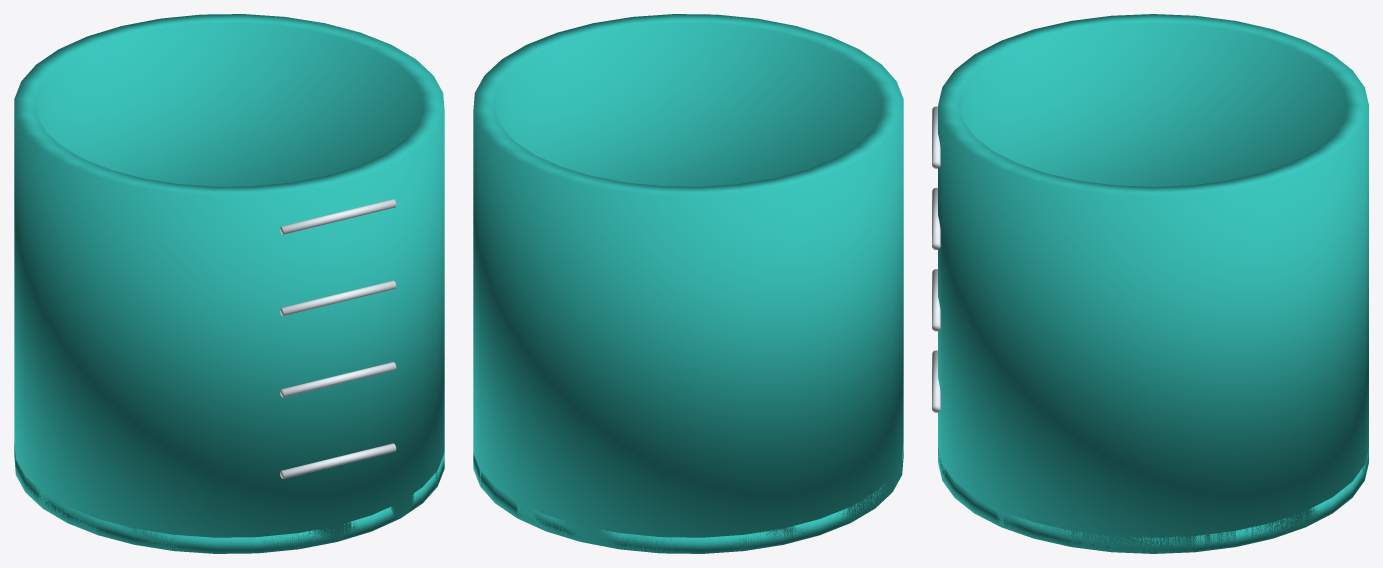
Rendered from laboratory-beaker-lite.glb.
3 renders of one model, left to right at view 1: azimuth 30°, elevation 25°; view 2: azimuth 150°, elevation 25°; view 3: azimuth 270°, elevation 25°, orthographic.
Visible parts, largest first — view 1: Open beaker; view 2: Open beaker; view 3: Open beaker.
Boxes of the visible parts, x1,y1,x2,y2 form: Open beaker: (14,14,444,553); Open beaker: (473,14,903,553); Open beaker: (932,14,1368,553).
Size of the model in its own units: 1.2 by 1.1 by 1.22.
